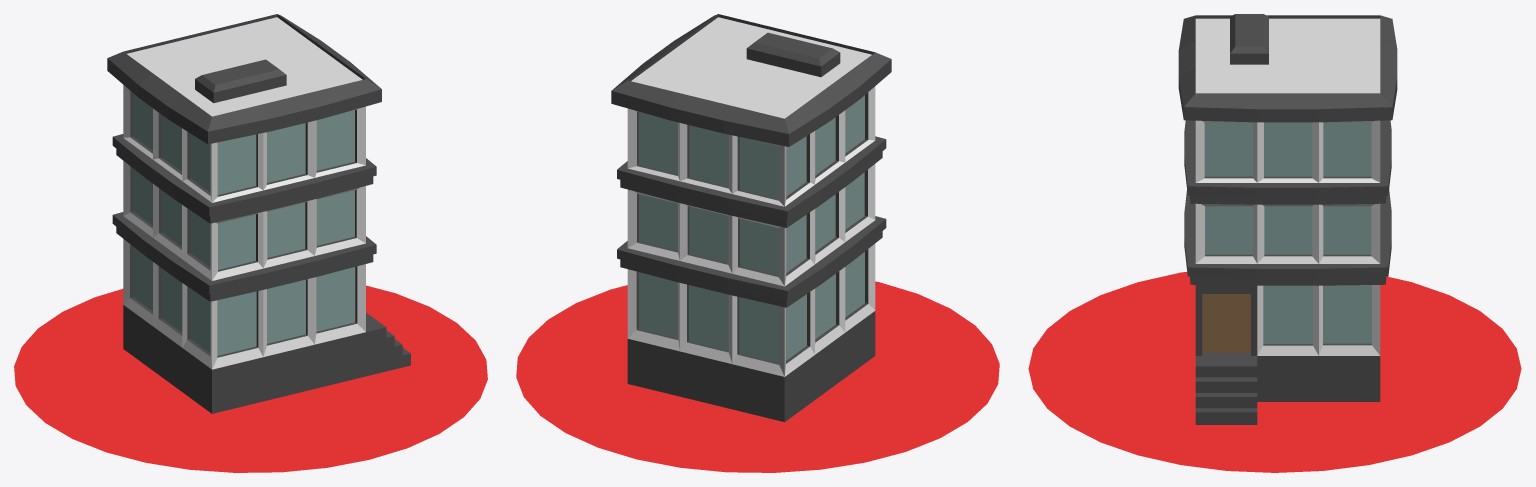
The model's file is building2.fbx.
3 renders of one model, left to right at view 1: azimuth 30°, elevation 25°; view 2: azimuth 150°, elevation 25°; view 3: azimuth 270°, elevation 25°, orthographic. The views are drawn at different scales.
Parts seen in each view (by area): view 1: Building1, Circle; view 2: Building1, Circle; view 3: Building1, Circle.
Boxes of the visible parts, x1=… form: Building1: x1=107, y1=14, x2=410, y2=413; Circle: x1=14, y1=285, x2=487, y2=472; Building1: x1=611, y1=14, x2=891, y2=422; Circle: x1=516, y1=281, x2=999, y2=472; Building1: x1=1178, y1=14, x2=1397, y2=424; Circle: x1=1028, y1=271, x2=1521, y2=472.
Bounding box in the file's own units: 591 × 433 × 591.
